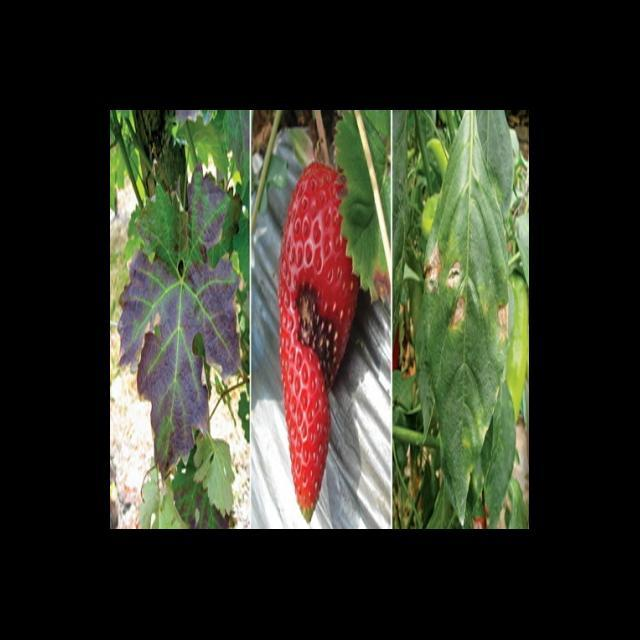Anthracnose Fruit Rot: (291, 277, 345, 391)
